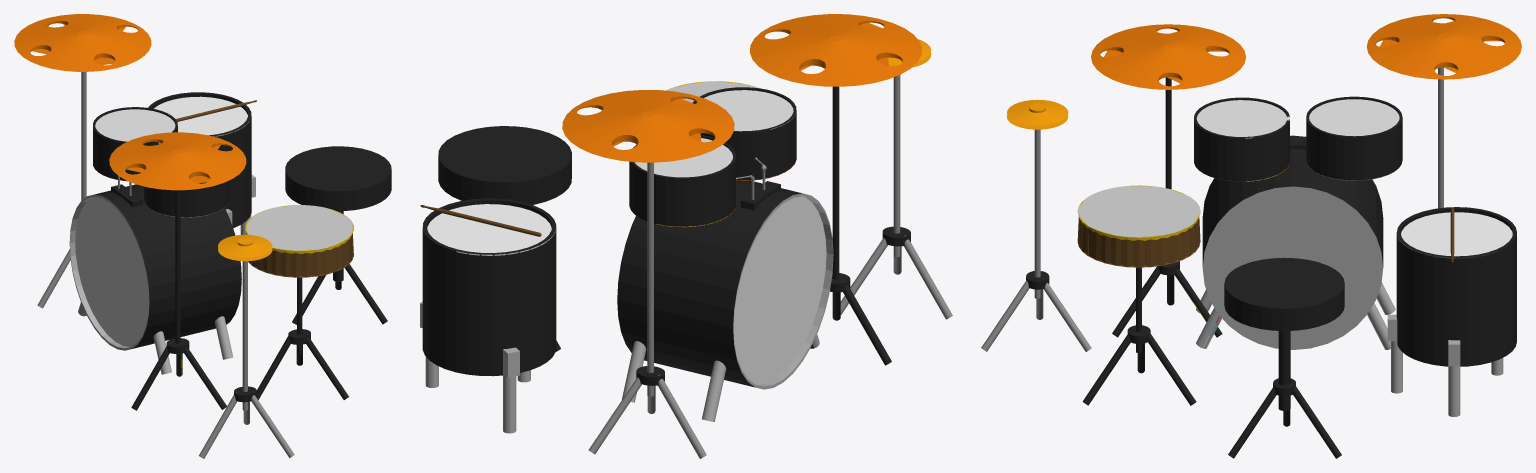
File: Drum Legend!.fbx
The picture shows the model from 3 angles, left to right: view 1: azimuth 30°, elevation 25°; view 2: azimuth 150°, elevation 25°; view 3: azimuth 270°, elevation 25°; orthographic projection. The views are drawn at different scales.
Visible parts, largest first — view 1: kickdrum / Tom 1 & 2.016, Cylinder.016, Snare drum, Cylinder.006, Throne, Cylinder.013, kickdrum / Tom 1 & 2.001, Cylinder.015, kickdrum / Tom 1 & 2.013, Cylinder.010; view 2: kickdrum / Tom 1 & 2.016, Cylinder.013, Cylinder.006, Cylinder.016, Throne, kickdrum / Tom 1 & 2.001, kickdrum / Tom 1 & 2.013, Cylinder.010, Cylinder.015, Snare drum, Cylinder.002; view 3: kickdrum / Tom 1 & 2.016, Cylinder.013, Snare drum, Throne, Cylinder.016, Cylinder.006, kickdrum / Tom 1 & 2.001, kickdrum / Tom 1 & 2.013, Cylinder.010, Cylinder.015.
Boxes of the visible parts, x1,y1,x2,y2 form: kickdrum / Tom 1 & 2.016: [69, 176, 241, 374]; Cylinder.016: [109, 132, 246, 410]; Snare drum: [245, 205, 354, 399]; Cylinder.006: [14, 14, 151, 308]; Throne: [285, 146, 391, 324]; Cylinder.013: [148, 92, 255, 234]; kickdrum / Tom 1 & 2.001: [93, 107, 177, 181]; Cylinder.015: [199, 234, 293, 458]; kickdrum / Tom 1 & 2.013: [144, 149, 229, 217]; Cylinder.010: [199, 261, 294, 458]; kickdrum / Tom 1 & 2.016: [617, 157, 833, 421]; Cylinder.013: [420, 198, 556, 433]; Cylinder.006: [562, 90, 734, 458]; Cylinder.016: [749, 14, 921, 365]; Throne: [438, 126, 571, 351]; kickdrum / Tom 1 & 2.001: [629, 135, 735, 227]; kickdrum / Tom 1 & 2.013: [692, 87, 796, 180]; Cylinder.010: [840, 75, 952, 319]; Cylinder.015: [840, 39, 950, 318]; Snare drum: [665, 81, 760, 102]; Cylinder.002: [420, 205, 541, 236]; kickdrum / Tom 1 & 2.016: [1196, 135, 1395, 349]; Cylinder.013: [1387, 207, 1516, 416]; Snare drum: [1077, 185, 1200, 405]; Throne: [1224, 257, 1344, 458]; Cylinder.016: [1091, 24, 1245, 337]; Cylinder.006: [1366, 14, 1521, 208]; kickdrum / Tom 1 & 2.001: [1306, 96, 1402, 180]; kickdrum / Tom 1 & 2.013: [1194, 97, 1289, 181]; Cylinder.010: [982, 129, 1091, 351]; Cylinder.015: [981, 99, 1090, 350].
Size of the model in its own units: 688 by 580 by 899.
